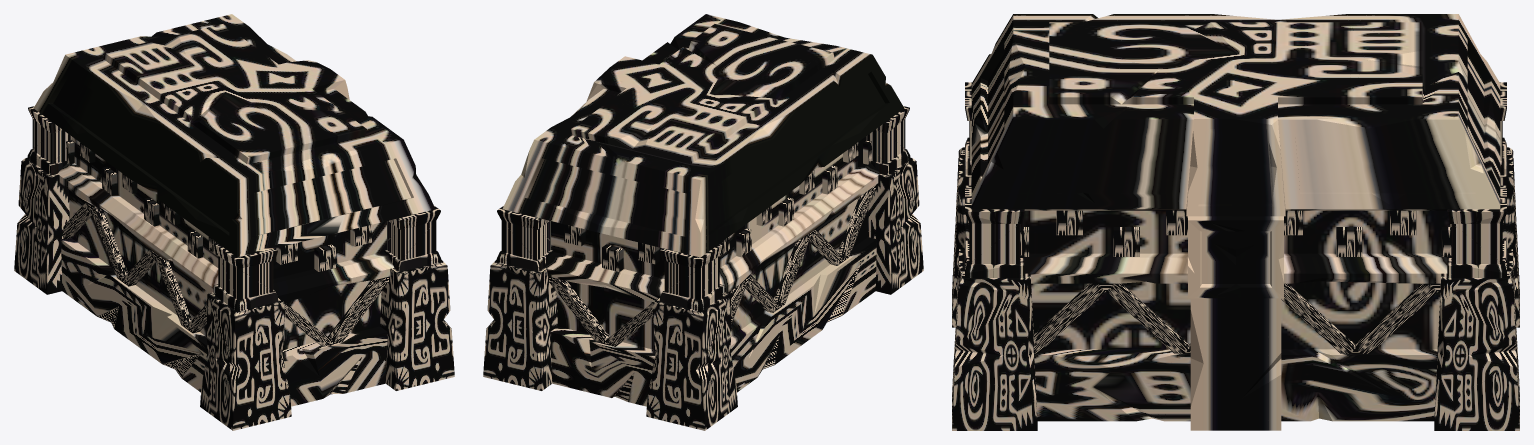
File: cofre.obj
3 views of the same model, side by side, from view 1: azimuth 30°, elevation 25°; view 2: azimuth 150°, elevation 25°; view 3: azimuth 270°, elevation 25° (orthographic). The views are drawn at different scales.
Visible parts, largest first — view 1: stone_chest_Cube_008; view 2: stone_chest_Cube_008; view 3: stone_chest_Cube_008.
Part boxes in pixels (x1,y1,x2,y2): stone_chest_Cube_008: (14, 14, 454, 430); stone_chest_Cube_008: (483, 14, 923, 430); stone_chest_Cube_008: (952, 14, 1519, 430).
Size of the model in its own units: 0.9498 by 0.9429 by 1.61.
Materials: 1 (1 with a texture image).
